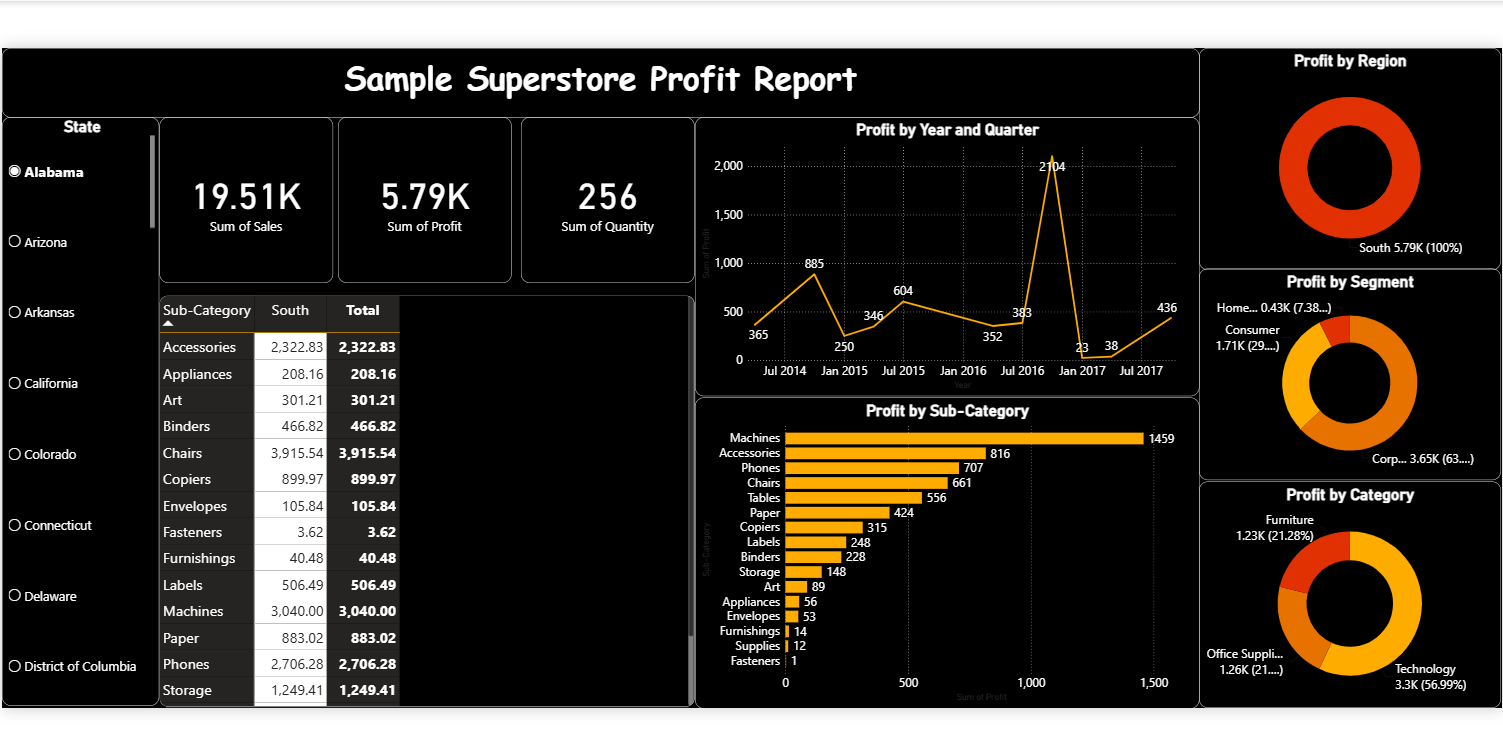

Layout of this report page (visuals, bound fields, positions):
{"tool":"powerbi","page":{"name":"Page 1","canvas":[2500,1100],"ordinal":0},"visuals":[{"type":"textbox","box":[0,0,1995.8,115.8],"z":0},{"type":"donutChart","title":"Profit by Category","fields":{"Category":["Orders.Category"],"Y":["Sum(Orders.Profit)"]},"box":[1995.8,722.3,503.4,377.5],"z":1000},{"type":"donutChart","title":"Profit by Segment","fields":{"Category":["Orders.Segment"],"Y":["Sum(Orders.Profit)"]},"box":[1995.8,367.5,503.4,352.4],"z":2000},{"type":"donutChart","title":"Profit by Region","fields":{"Y":["Sum(Orders.Profit)"],"Category":["Orders.Region"]},"box":[1995.8,0,503.4,370],"z":3000},{"type":"barChart","title":"Profit by Sub-Category","fields":{"Category":["Orders.Sub-Category"],"Y":["Sum(Orders.Profit)"]},"box":[1155.2,581.4,840.6,518.5],"z":4000},{"type":"lineChart","title":"Profit by Year and Quarter","fields":{"Category":["Orders.Order Date.Variation.Date Hierarchy.Year","Orders.Order Date.Variation.Date Hierarchy.Quarter","Orders.Order Date.Variation.Date Hierarchy.Month","Orders.Order Date.Variation.Date Hierarchy.Day"],"Y":["Sum(Orders.Profit)"]},"box":[1155.2,115.8,840.6,465.6],"z":5000},{"type":"listSlicer","fields":{"Values":["Orders.State"]},"box":[0,115.8,261.7,981.5],"z":6000},{"type":"pivotTable","fields":{"Rows":["Orders.Sub-Category"],"Columns":["Orders.Region"],"Values":["Sum(Orders.Sales)"]},"box":[262.5,413.1,891.8,685.3],"z":7000},{"type":"card","fields":{"Values":["Sum(Orders.Sales)"]},"box":[261.7,115.8,289.4,276.8],"z":8000},{"type":"card","fields":{"Values":["Sum(Orders.Profit)"]},"box":[561.2,115.8,289.4,276.8],"z":9000},{"type":"card","fields":{"Values":["Sum(Orders.Quantity)"]},"box":[865.8,115.8,289.4,276.8],"z":10000}]}

Visuals, with their boxes on the page's 2500x1100 design canvas (x1, y1, x2, y2). These are canvas units, not pixel positions in the 1503x751 screenshot, which may show the page scaled, cropped or inside an application window:
textbox: bbox=(0, 0, 1996, 116)
"Profit by Category" donutChart: bbox=(1996, 722, 2499, 1100)
"Profit by Segment" donutChart: bbox=(1996, 368, 2499, 720)
"Profit by Region" donutChart: bbox=(1996, 0, 2499, 370)
"Profit by Sub-Category" barChart: bbox=(1155, 581, 1996, 1100)
"Profit by Year and Quarter" lineChart: bbox=(1155, 116, 1996, 581)
listSlicer - Orders.State: bbox=(0, 116, 262, 1097)
pivotTable - Orders.Sub-Category x Orders.Region: bbox=(262, 413, 1154, 1098)
card - Sum(Orders.Sales): bbox=(262, 116, 551, 393)
card - Sum(Orders.Profit): bbox=(561, 116, 851, 393)
card - Sum(Orders.Quantity): bbox=(866, 116, 1155, 393)
